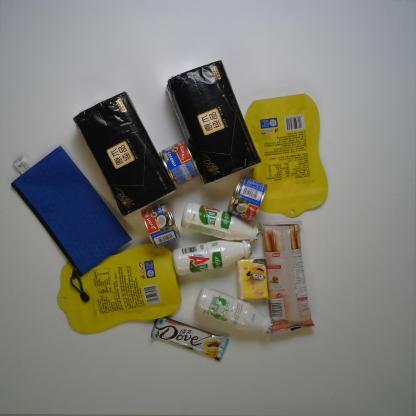Canned Food: (157, 136, 202, 192), (222, 173, 270, 223), (138, 198, 184, 250)
Chocolate: (146, 312, 232, 366)
Dessert: (254, 219, 318, 336)
Dried Fruit: (55, 239, 184, 337), (243, 90, 330, 220)
Milk: (191, 284, 274, 338), (178, 199, 263, 246), (168, 236, 256, 278)
Stationery: (6, 141, 134, 304)
Tissue: (69, 88, 179, 220), (162, 58, 266, 188), (236, 256, 269, 300)
